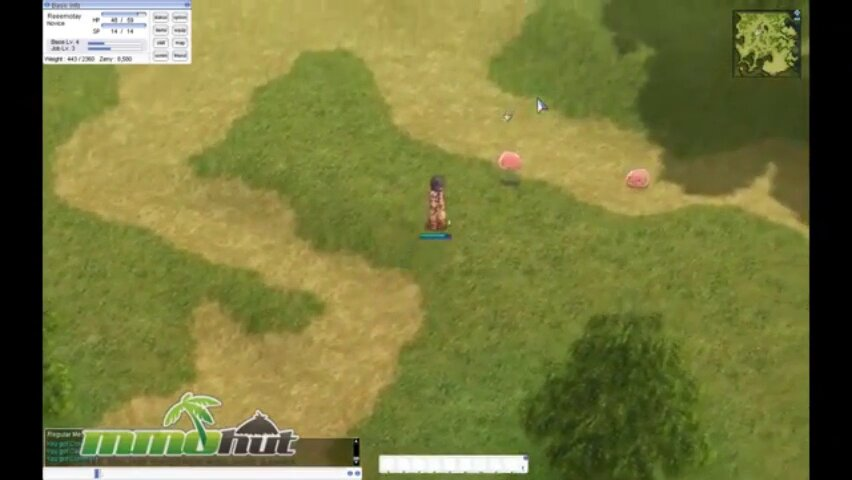Monster01: (490, 145, 532, 175), (618, 161, 654, 192)
